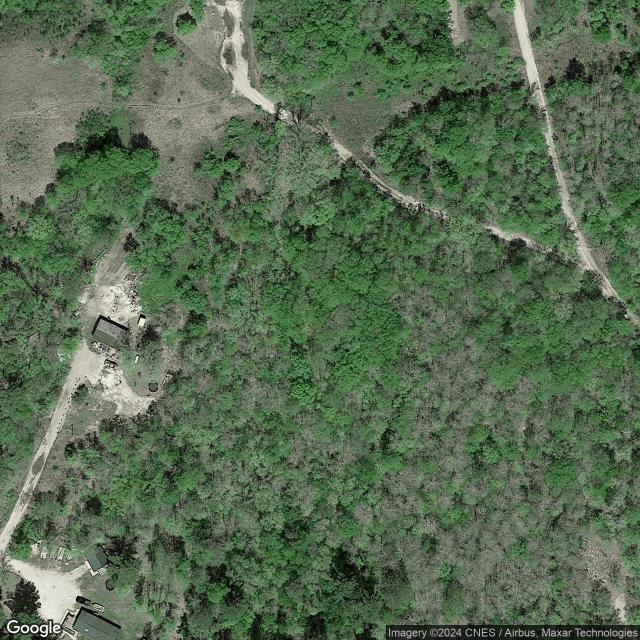Propane: (133, 354, 140, 364)
